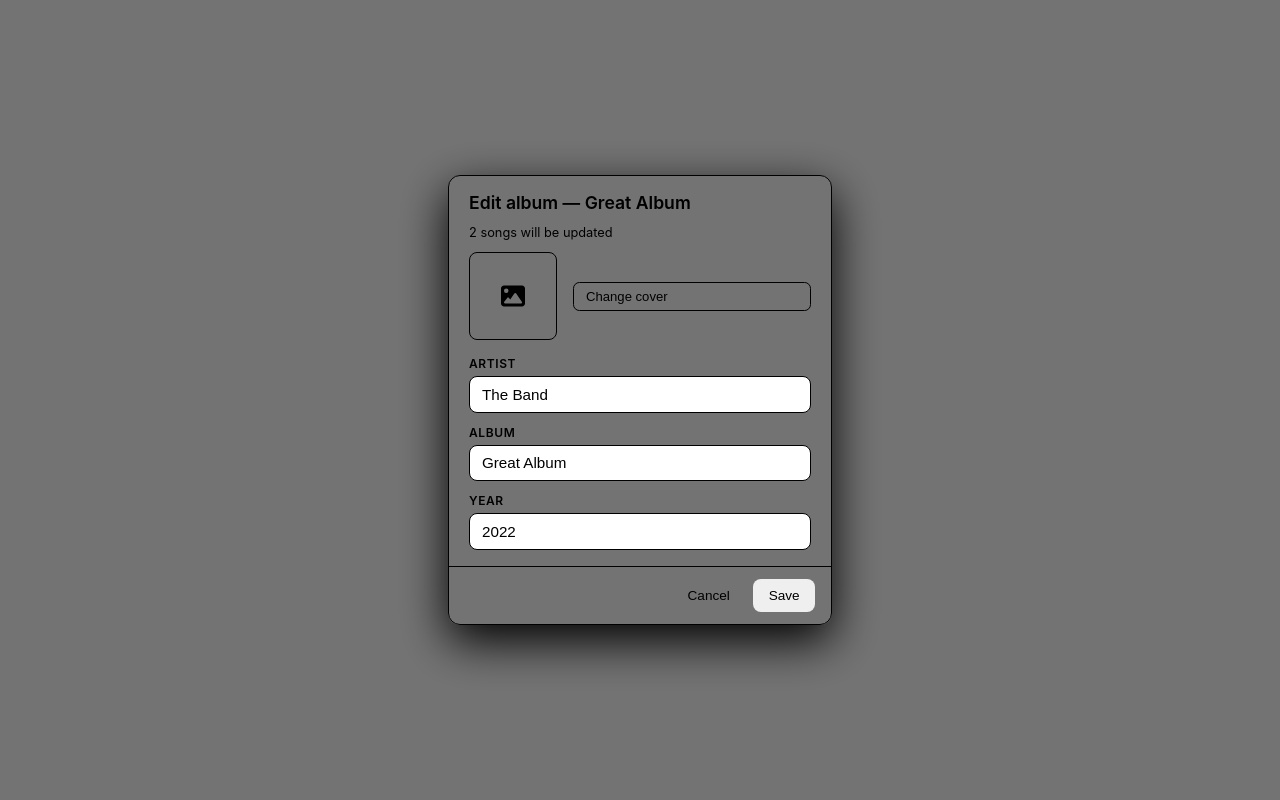
EditGroupMetadataModal › album mode — cover art › fetches a preview and reveals Remove cover after picking a file
This screenshot has width=1280, height=800.
Click the button "Change cover".
click(692, 296)  # box [573, 282, 811, 311]
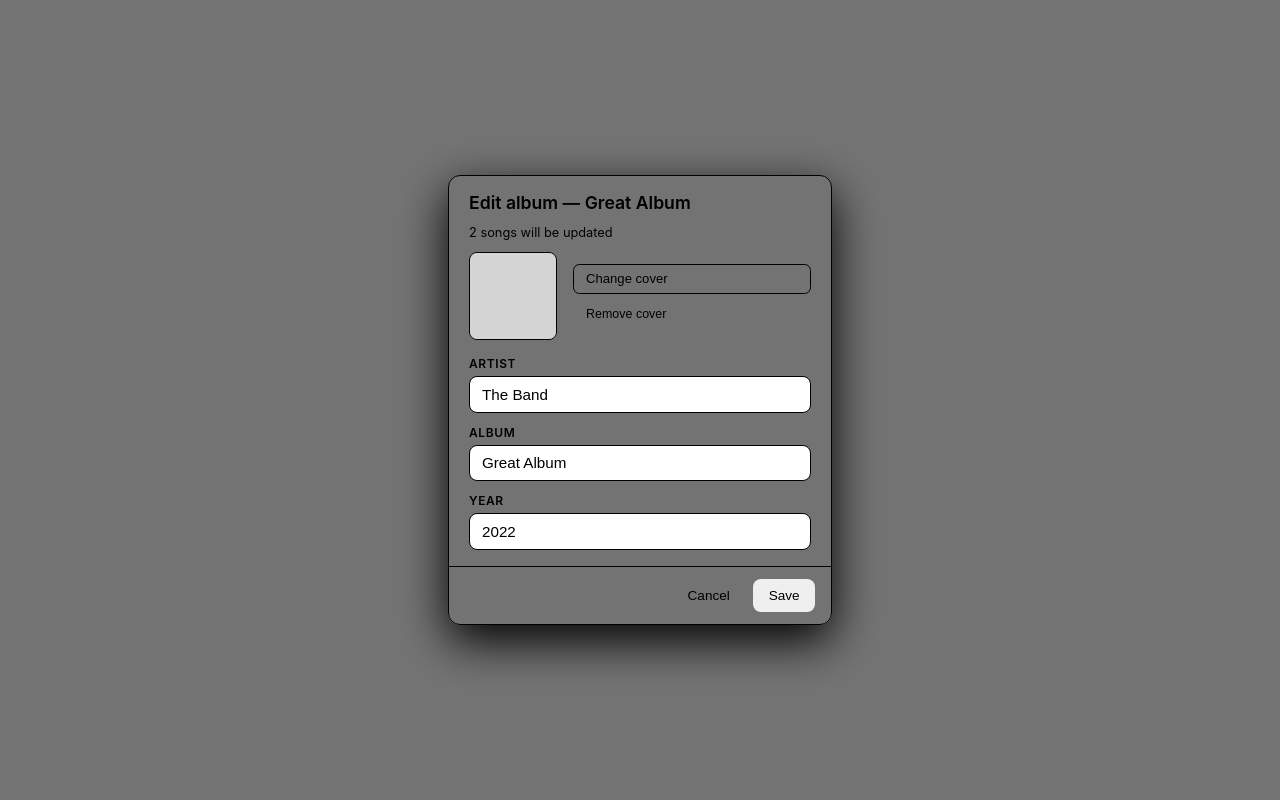
Check: the button "Remove cover" is shown, box [573, 300, 811, 329]
